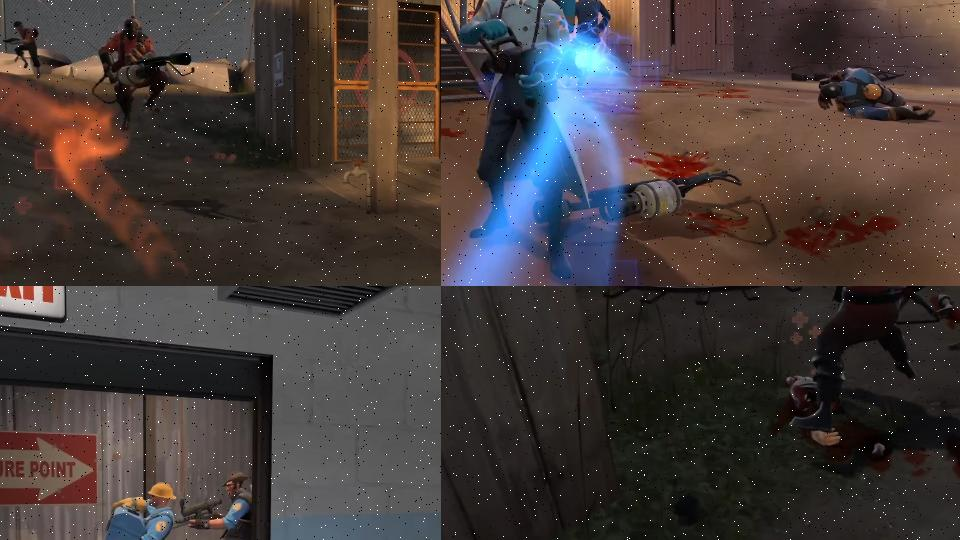Enemy: (459, 0, 591, 279), (736, 286, 942, 429), (94, 16, 194, 129), (818, 67, 935, 121), (175, 469, 253, 540), (103, 481, 176, 540), (0, 19, 42, 75), (574, 0, 609, 49)
